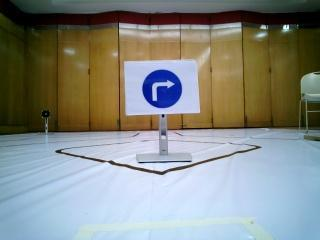right: (125, 61, 193, 111)
